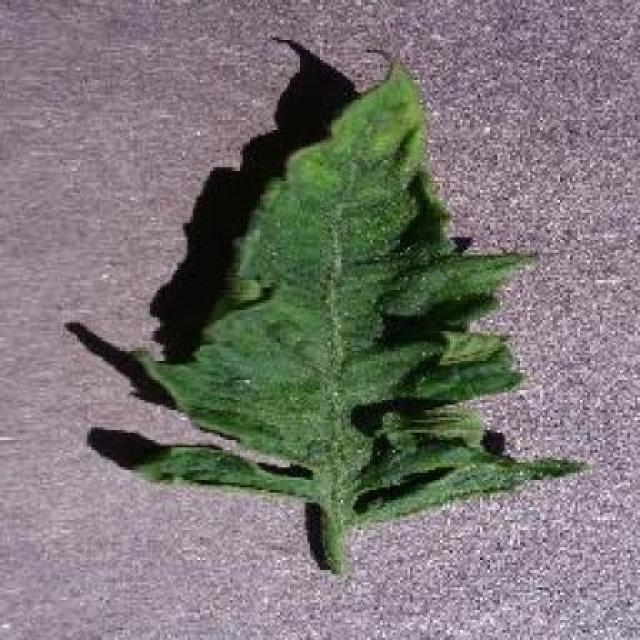Mosaic Virus: (119, 49, 588, 524)
